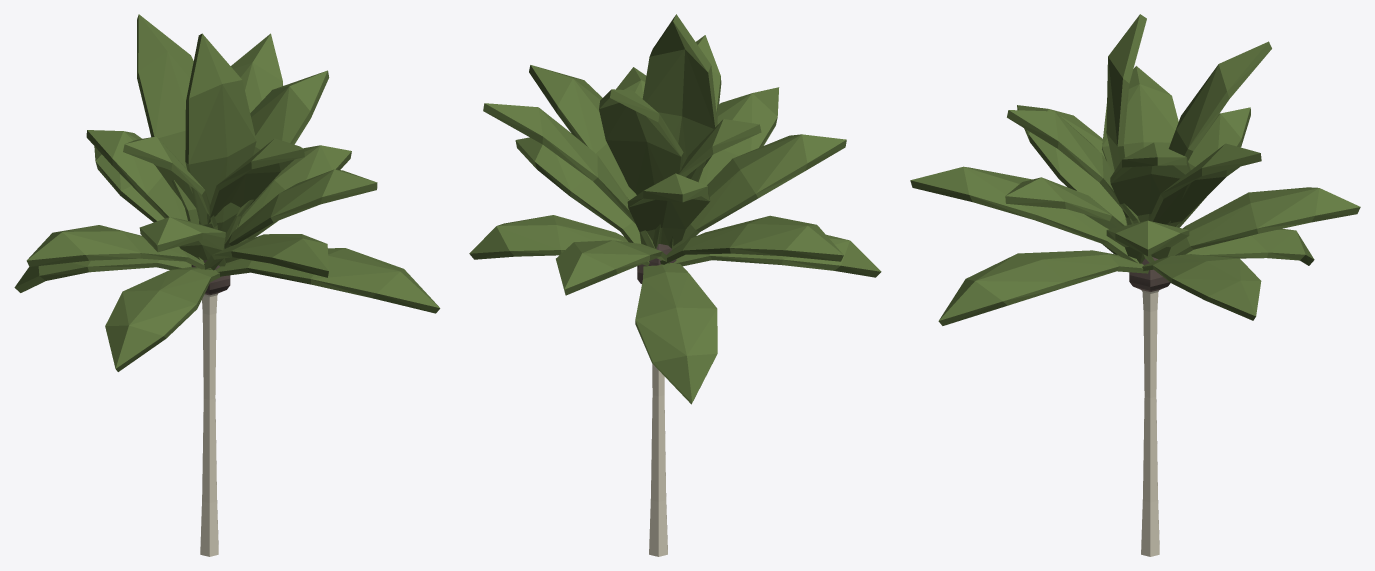
The model's file is Tree_Palm_01.FBX.
3 renders of one model, left to right at view 1: azimuth 30°, elevation 25°; view 2: azimuth 150°, elevation 25°; view 3: azimuth 270°, elevation 25°, orthographic. The views are drawn at different scales.
Visible parts, largest first — view 1: Tree_Palm_01; view 2: Tree_Palm_01; view 3: Tree_Palm_01.
Part boxes in pixels (box(x1,y1,x2,y2)): Tree_Palm_01: box(14, 14, 440, 556); Tree_Palm_01: box(469, 14, 881, 556); Tree_Palm_01: box(910, 14, 1360, 556).
Size of the model in its own units: 8.21 by 12.75 by 9.79.
1 material, 1 textured.
